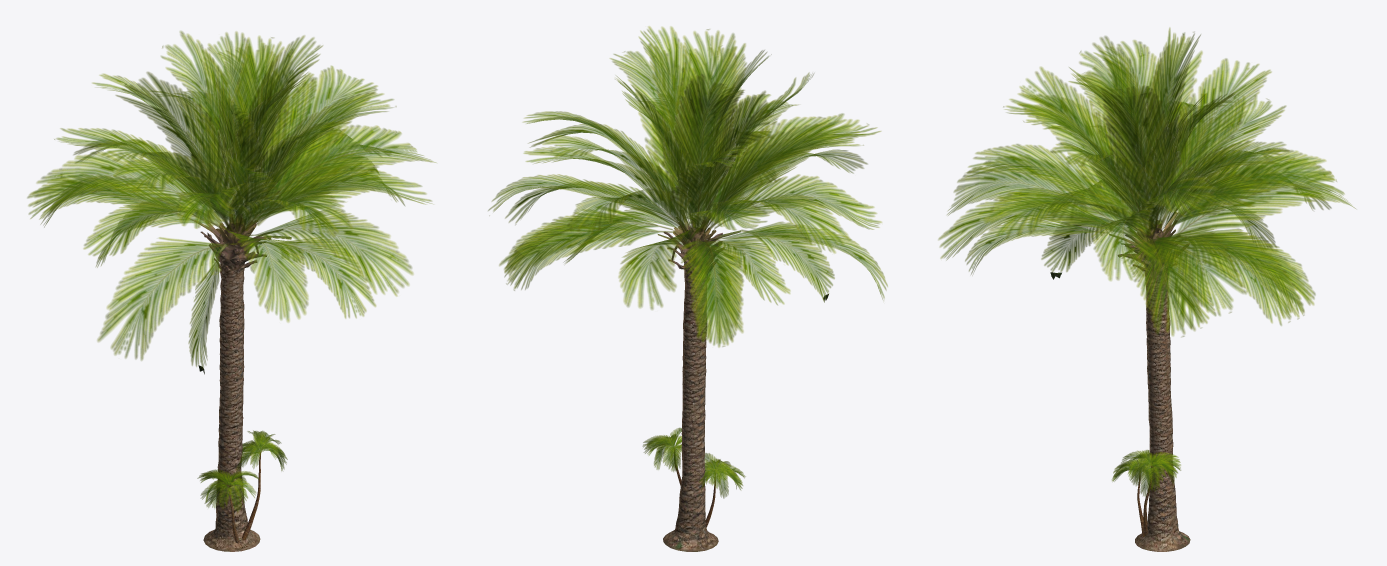
The model's file is palms_v2.glb.
3 views of the same model, side by side, from view 1: azimuth 30°, elevation 25°; view 2: azimuth 150°, elevation 25°; view 3: azimuth 270°, elevation 25° (orthographic). The views are drawn at different scales.
Parts seen in each view (by area): view 1: palm_x1_full, palm_x2_curved; view 2: palm_x1_full, palm_x2_curved; view 3: palm_x1_full, palm_x2_curved.
Boxes of the visible parts, x1=… form: palm_x1_full: x1=27, y1=31, x2=435, y2=551; palm_x2_curved: x1=197, y1=430, x2=287, y2=543; palm_x1_full: x1=488, y1=26, x2=887, y2=551; palm_x2_curved: x1=642, y1=427, x2=745, y2=527; palm_x1_full: x1=938, y1=27, x2=1355, y2=551; palm_x2_curved: x1=1112, y1=450, x2=1180, y2=536.
Size of the model in its own units: 18.4 by 23.53 by 18.94.
Materials: 4 (4 with a texture image).
